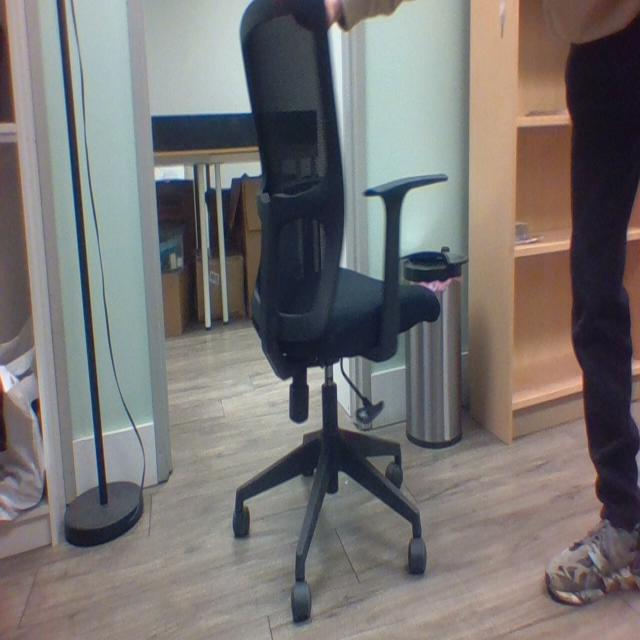black-chair: (240, 1, 440, 615)
